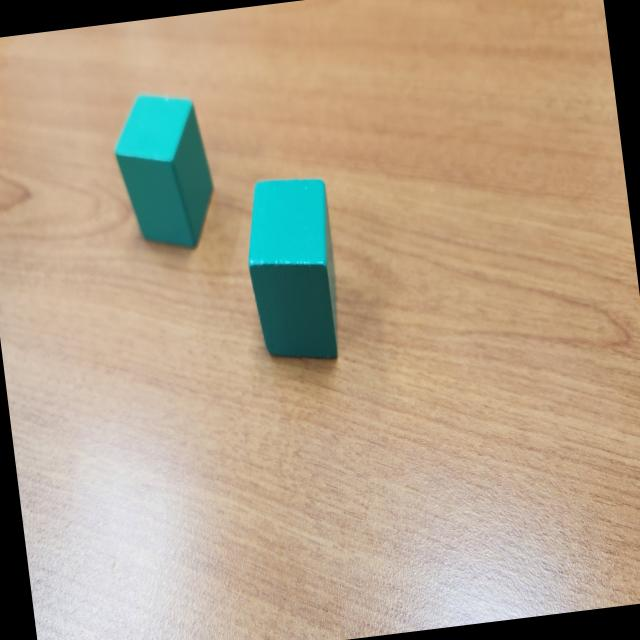green: (238, 170, 346, 366), (108, 86, 220, 256)
